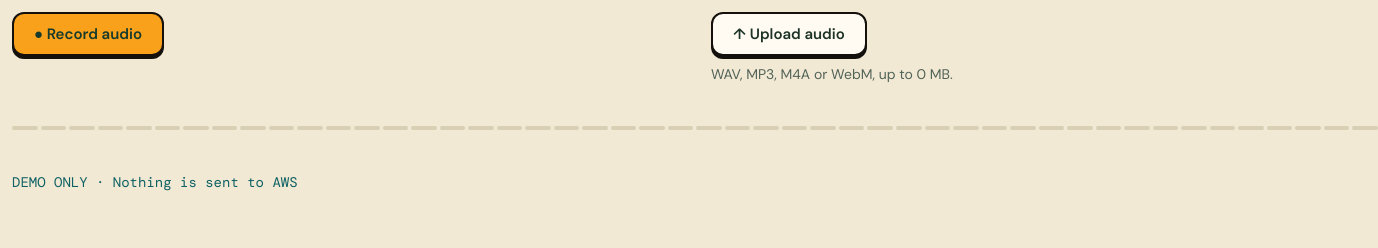
RecorderUploader live transcript › keeps audio unsubmitted if the recorder cannot start after the countdown
What coordinates should you click on to do the following:
click the button "● Record audio"
I would click on:
 (88, 34)
Its box is [12,12,164,56].
Wait 3000 ms
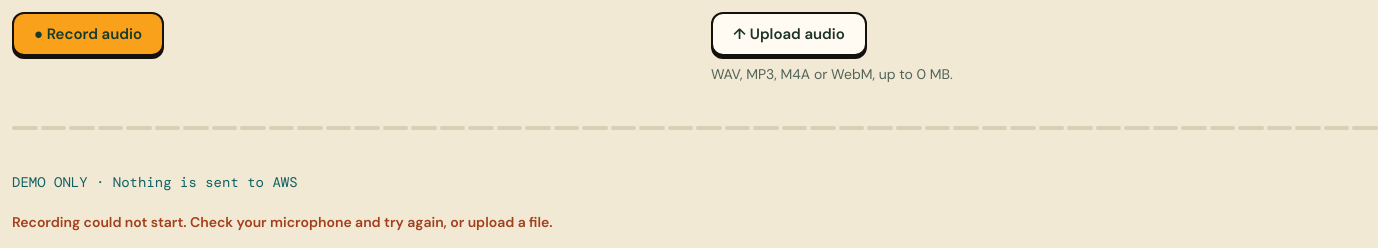
expect the message shows "Recording could not start": met, box [12,213,553,231]
